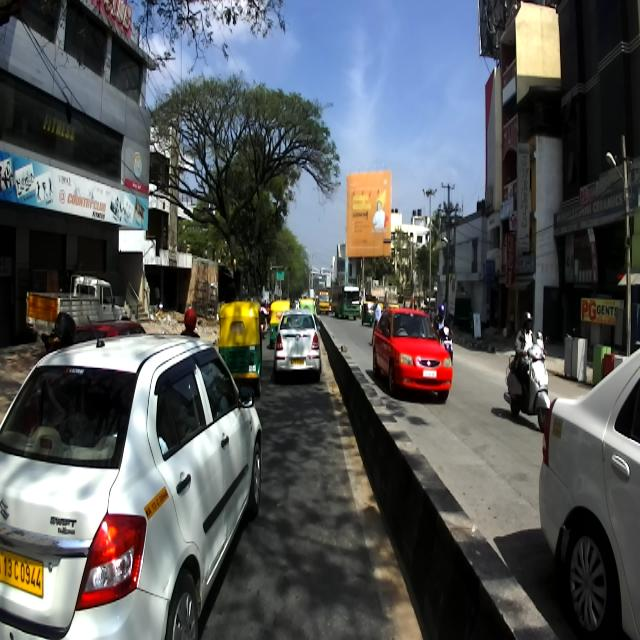car ahead at: (0, 335, 264, 640), (540, 345, 640, 639), (270, 310, 326, 372)
motorcycle ahead at: (504, 346, 550, 422)
